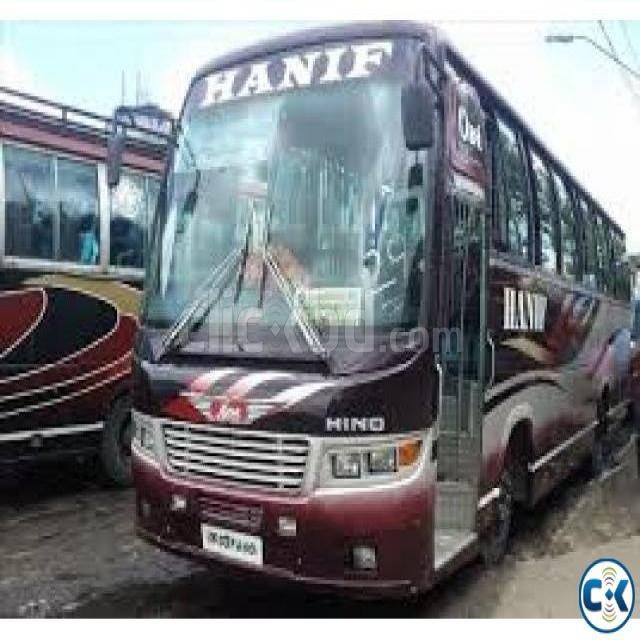Bus: (101, 1, 640, 629), (1, 63, 422, 528)
